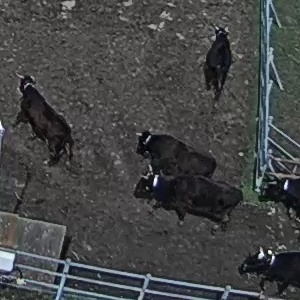cow: (126, 163, 255, 233), (10, 65, 85, 178), (124, 121, 223, 177), (188, 21, 248, 111), (234, 242, 299, 300), (257, 166, 300, 213)
